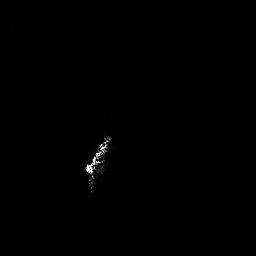ship: (79, 132, 115, 195)
